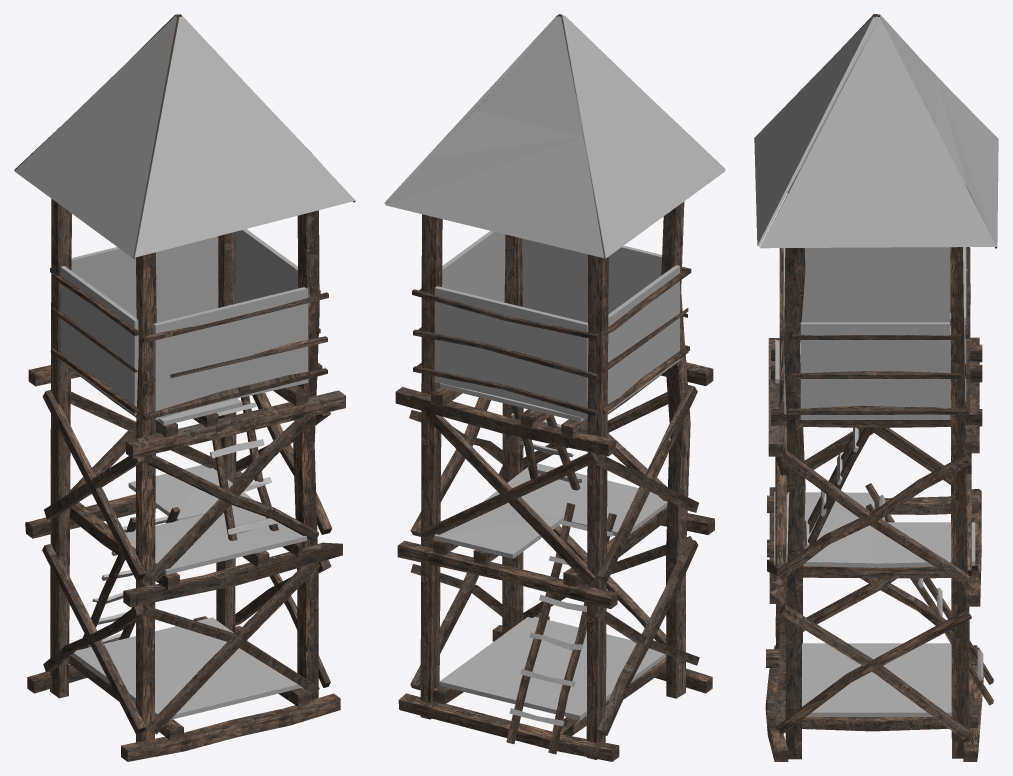
The model's file is watch1_lod1.fbx.
3 renders of one model, left to right at view 1: azimuth 30°, elevation 25°; view 2: azimuth 150°, elevation 25°; view 3: azimuth 270°, elevation 25°, orthographic.
Visible parts, largest first — view 1: Default_Layer; view 2: Default_Layer; view 3: Default_Layer.
Part boxes in pixels (x1,y1,x2,y2): Default_Layer: (14, 14, 355, 761); Default_Layer: (384, 14, 725, 761); Default_Layer: (754, 14, 998, 761).
Bounding box in the file's own units: 568 × 1670 × 530.
